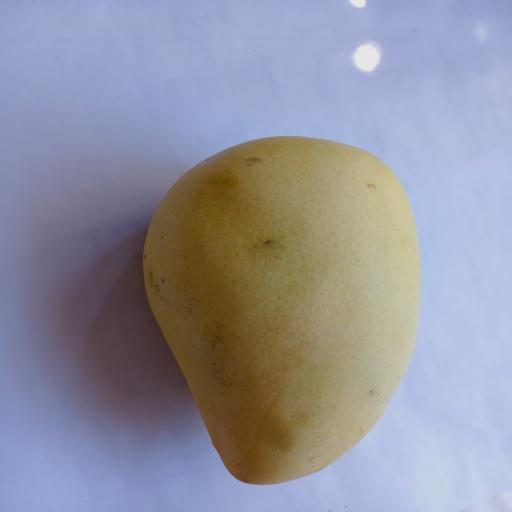mango-ripe: (125, 112, 462, 497)
